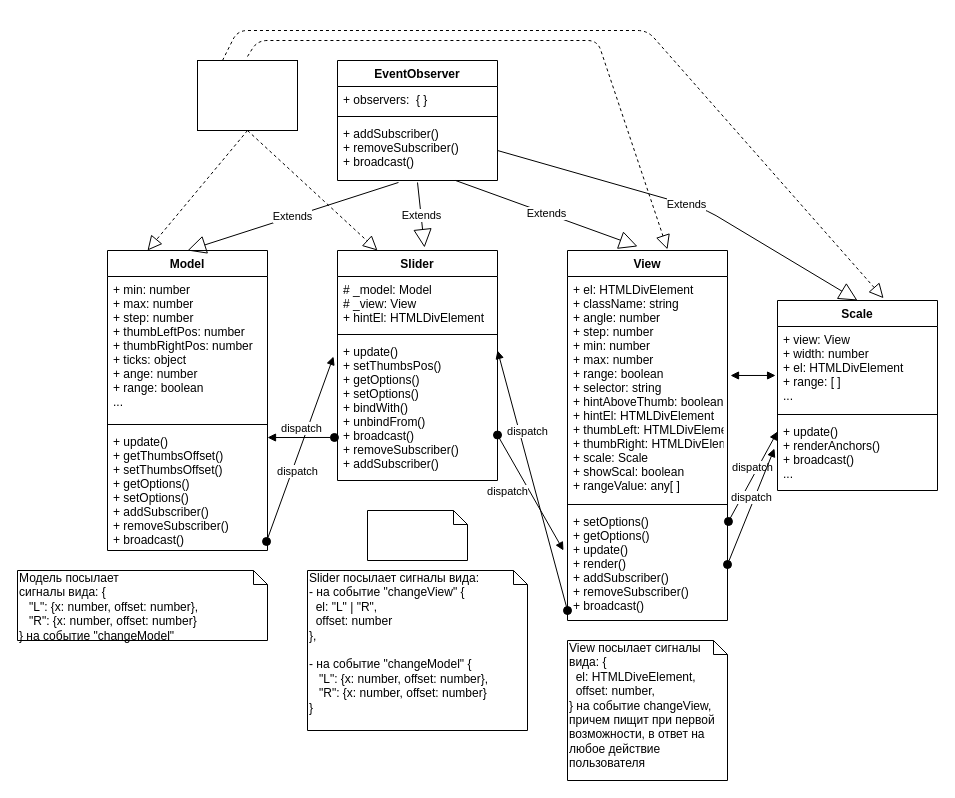
The diagram is 955 pixels wide and 798 high, and some of its shapes have lost their labels. Each missing label, with the centre of its shape:
"<<Interface>> ISubscriber + update()" goes at [247,95].
"Slider - ничто иное как Presenter" goes at [417,535].
